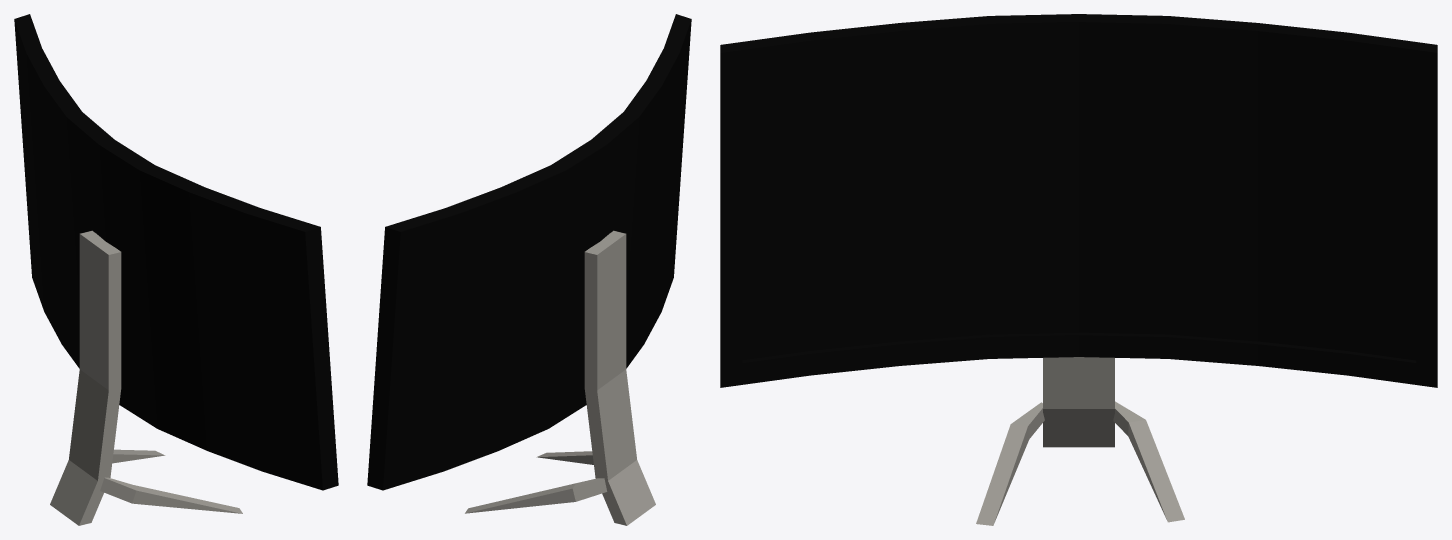
Rendered from Monitor1.glb.
The picture shows the model from 3 angles, left to right: view 1: azimuth 30°, elevation 25°; view 2: azimuth 150°, elevation 25°; view 3: azimuth 270°, elevation 25°; orthographic projection. The views are drawn at different scales.
Parts seen in each view (by area): view 1: Cube.003, Cube, Cube.001, Cube.002; view 2: Cube.003, Cube, Cube.002, Cube.001; view 3: Cube.003, Cube, Cube.001, Cube.002.
Part boxes in pixels (x1,y1,x2,y2): Cube.003: (14, 14, 338, 490); Cube: (50, 230, 121, 525); Cube.001: (100, 477, 242, 513); Cube.002: (112, 449, 165, 463); Cube.003: (367, 14, 691, 490); Cube: (584, 230, 655, 525); Cube.002: (465, 478, 607, 513); Cube.001: (536, 451, 593, 464); Cube.003: (720, 14, 1437, 387); Cube: (1043, 357, 1114, 447); Cube.001: (976, 402, 1044, 525); Cube.002: (1113, 401, 1184, 522).
Size of the model in its own units: 0.2227 by 0.5604 by 0.8.
2 materials, 1 textured.
